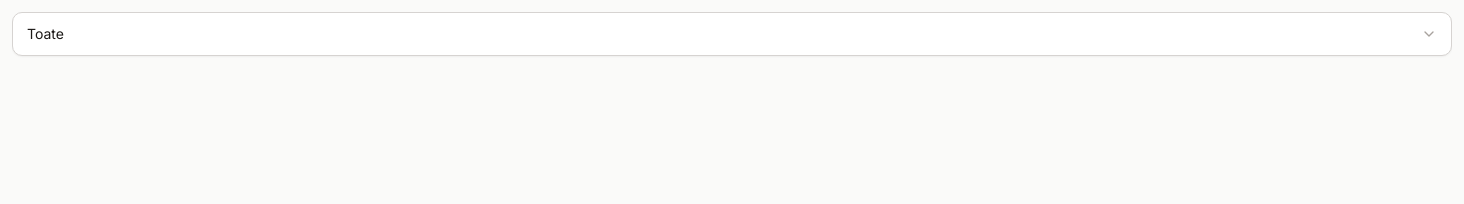
Test: OptionSelect selectează o opțiune și o afișează
The width and height of the screenshot is (1464, 204).
Click the dropdown.
click(45, 34)  # box 12,12 -> 1452,56
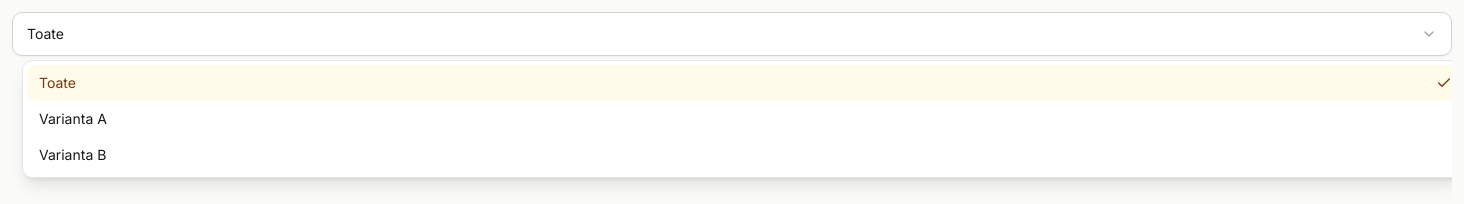
Click the option "Varianta B".
click(73, 154)  # box 39,146 -> 106,163
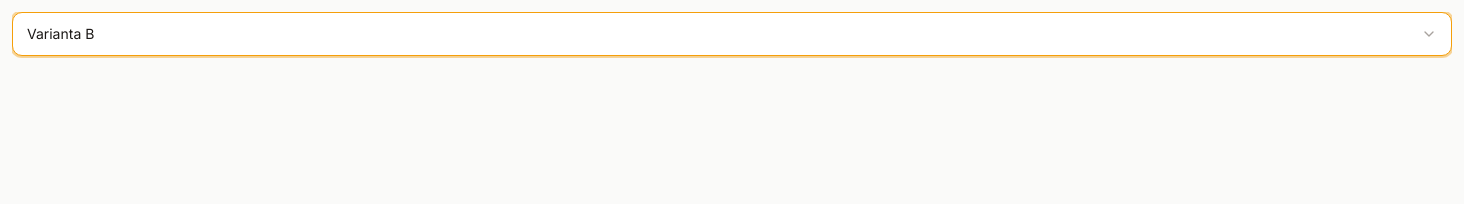
Check: the text "Varianta B" is shown, box 27,24 -> 94,44
